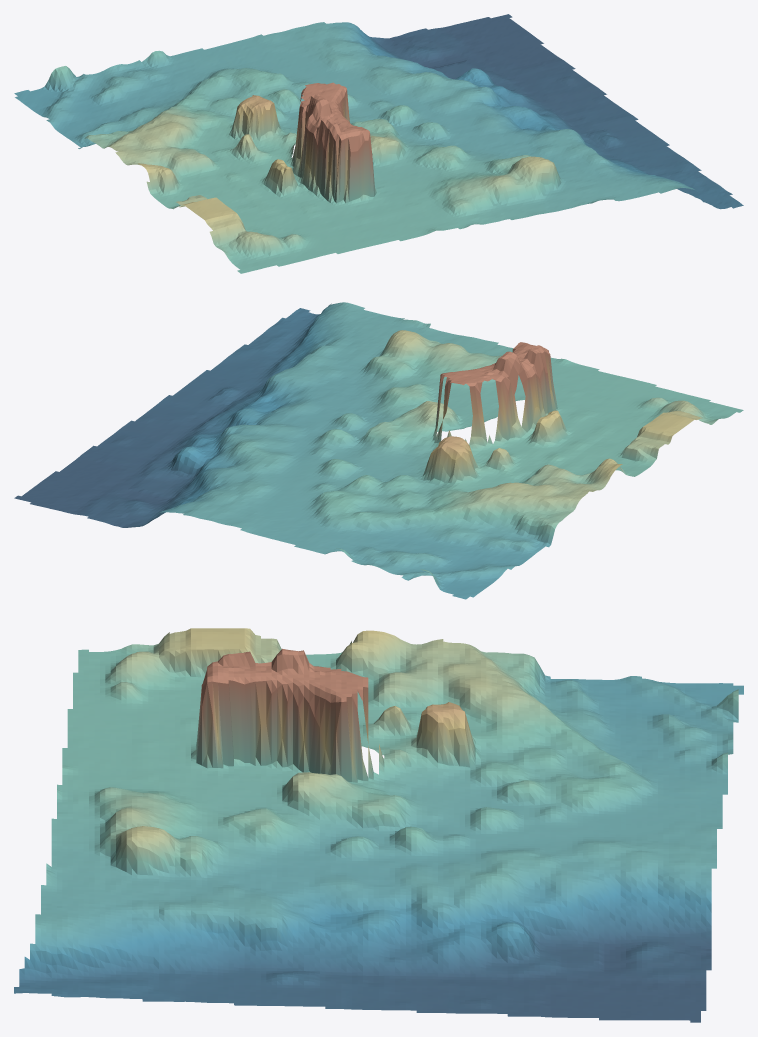
File: oma084_mesh_ours.glb
3 renders of one model, top to bottom at view 1: azimuth 30°, elevation 25°; view 2: azimuth 150°, elevation 25°; view 3: azimuth 270°, elevation 25°, orthographic. The views are drawn at different scales.
Visible parts, largest first — view 1: world; view 2: world; view 3: world.
Boxes of the visible parts, box(x1,y1,x2,y2) form: world: box(14, 14, 743, 273); world: box(14, 302, 743, 599); world: box(14, 628, 743, 1022).
Size of the model in its own units: 213 by 46.96 by 204.
